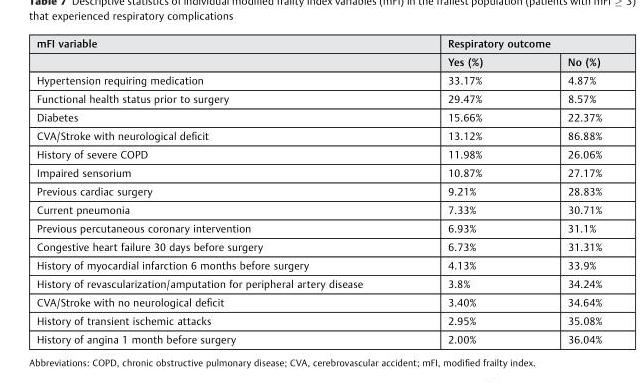table: (36, 36, 601, 344)
table column: (36, 36, 404, 344), (404, 36, 524, 344), (524, 36, 601, 344)
table column header: (36, 36, 601, 70)
table row: (36, 51, 601, 70), (36, 88, 601, 107), (36, 107, 601, 126), (36, 162, 601, 181), (36, 199, 601, 218), (36, 236, 601, 255), (36, 273, 601, 292), (36, 310, 601, 329), (36, 70, 601, 88), (36, 126, 601, 144), (36, 144, 601, 162), (36, 181, 601, 199), (36, 218, 601, 236), (36, 255, 601, 273), (36, 292, 601, 310), (36, 36, 601, 51), (36, 329, 601, 344)
table spanning cell: (36, 36, 404, 70), (404, 36, 601, 51)
